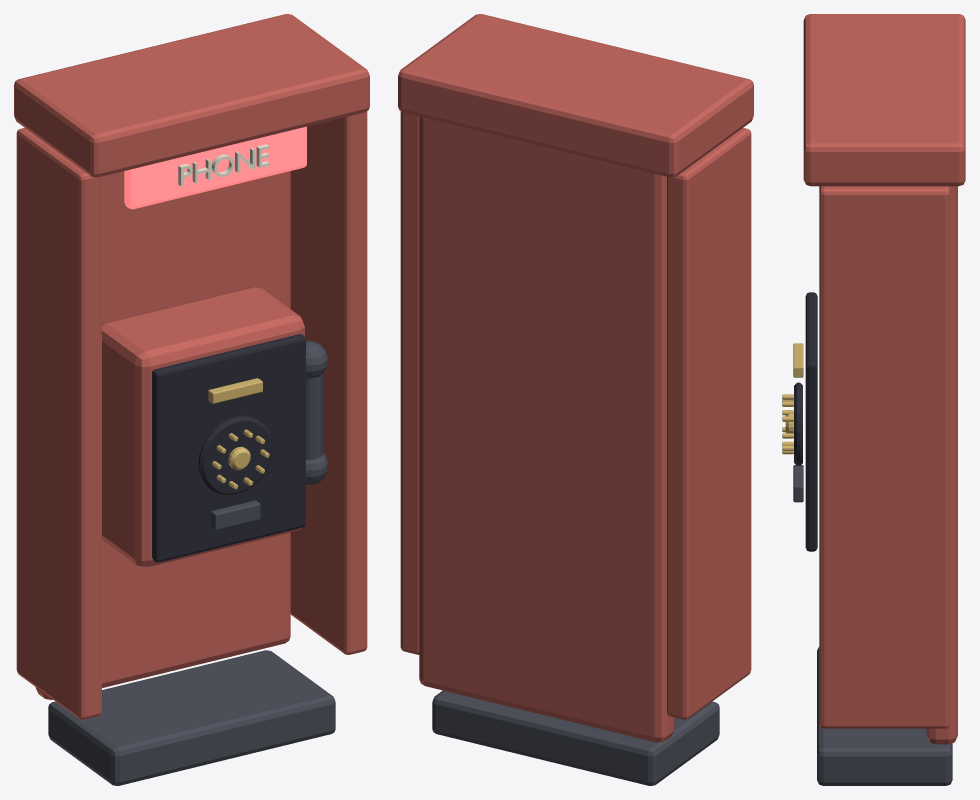
The model's file is payphone.glb.
3 views of the same model, side by side, from view 1: azimuth 30°, elevation 25°; view 2: azimuth 150°, elevation 25°; view 3: azimuth 270°, elevation 25° (orthographic).
Parts seen in each view (by area): view 1: phone booth side left frame, red phone booth back plate, phone booth roof lip, phone booth side right frame, black bakelite face plate, payphone cast iron base, rounded phone cabinet, telephone sign milk glass, rotary dial black wheel, curved black handset grip, telephone raised letters, coin return cup (+2 smaller); view 2: red phone booth back plate, phone booth side left frame, phone booth roof lip, payphone cast iron base, phone booth side right frame; view 3: phone booth side right frame, phone booth roof lip, payphone cast iron base, red phone booth back plate, black bakelite face plate, rotary dial black wheel, coin return cup, brass coin slot.
Part boxes in pixels (bbox=[...]): phone booth side left frame: bbox=[16, 128, 101, 719]; red phone booth back plate: bbox=[35, 171, 290, 699]; phone booth roof lip: bbox=[14, 14, 369, 177]; phone booth side right frame: bbox=[290, 111, 367, 654]; black bakelite face plate: bbox=[152, 334, 305, 562]; payphone cast iron base: bbox=[48, 650, 335, 785]; rounded phone cabinet: bbox=[102, 287, 304, 566]; telephone sign milk glass: bbox=[124, 126, 306, 209]; rotary dial black wheel: bbox=[198, 415, 272, 495]; curved black handset grip: bbox=[306, 374, 322, 460]; telephone raised letters: bbox=[178, 144, 269, 186]; coin return cup: bbox=[210, 500, 260, 530]; red phone booth back plate: bbox=[419, 116, 674, 742]; phone booth side left frame: bbox=[667, 128, 751, 719]; phone booth roof lip: bbox=[398, 14, 753, 177]; payphone cast iron base: bbox=[432, 690, 719, 785]; phone booth side right frame: bbox=[400, 111, 419, 654]; phone booth side right frame: bbox=[819, 186, 949, 728]; phone booth roof lip: bbox=[803, 14, 965, 186]; payphone cast iron base: bbox=[817, 647, 952, 785]; red phone booth back plate: bbox=[926, 186, 957, 744]; black bakelite face plate: bbox=[805, 292, 817, 551]; rotary dial black wheel: bbox=[794, 382, 802, 465]; coin return cup: bbox=[793, 465, 803, 502]; brass coin slot: bbox=[793, 343, 803, 377].
Size of the model in its own units: 1.26 by 2.77 by 0.7025.
